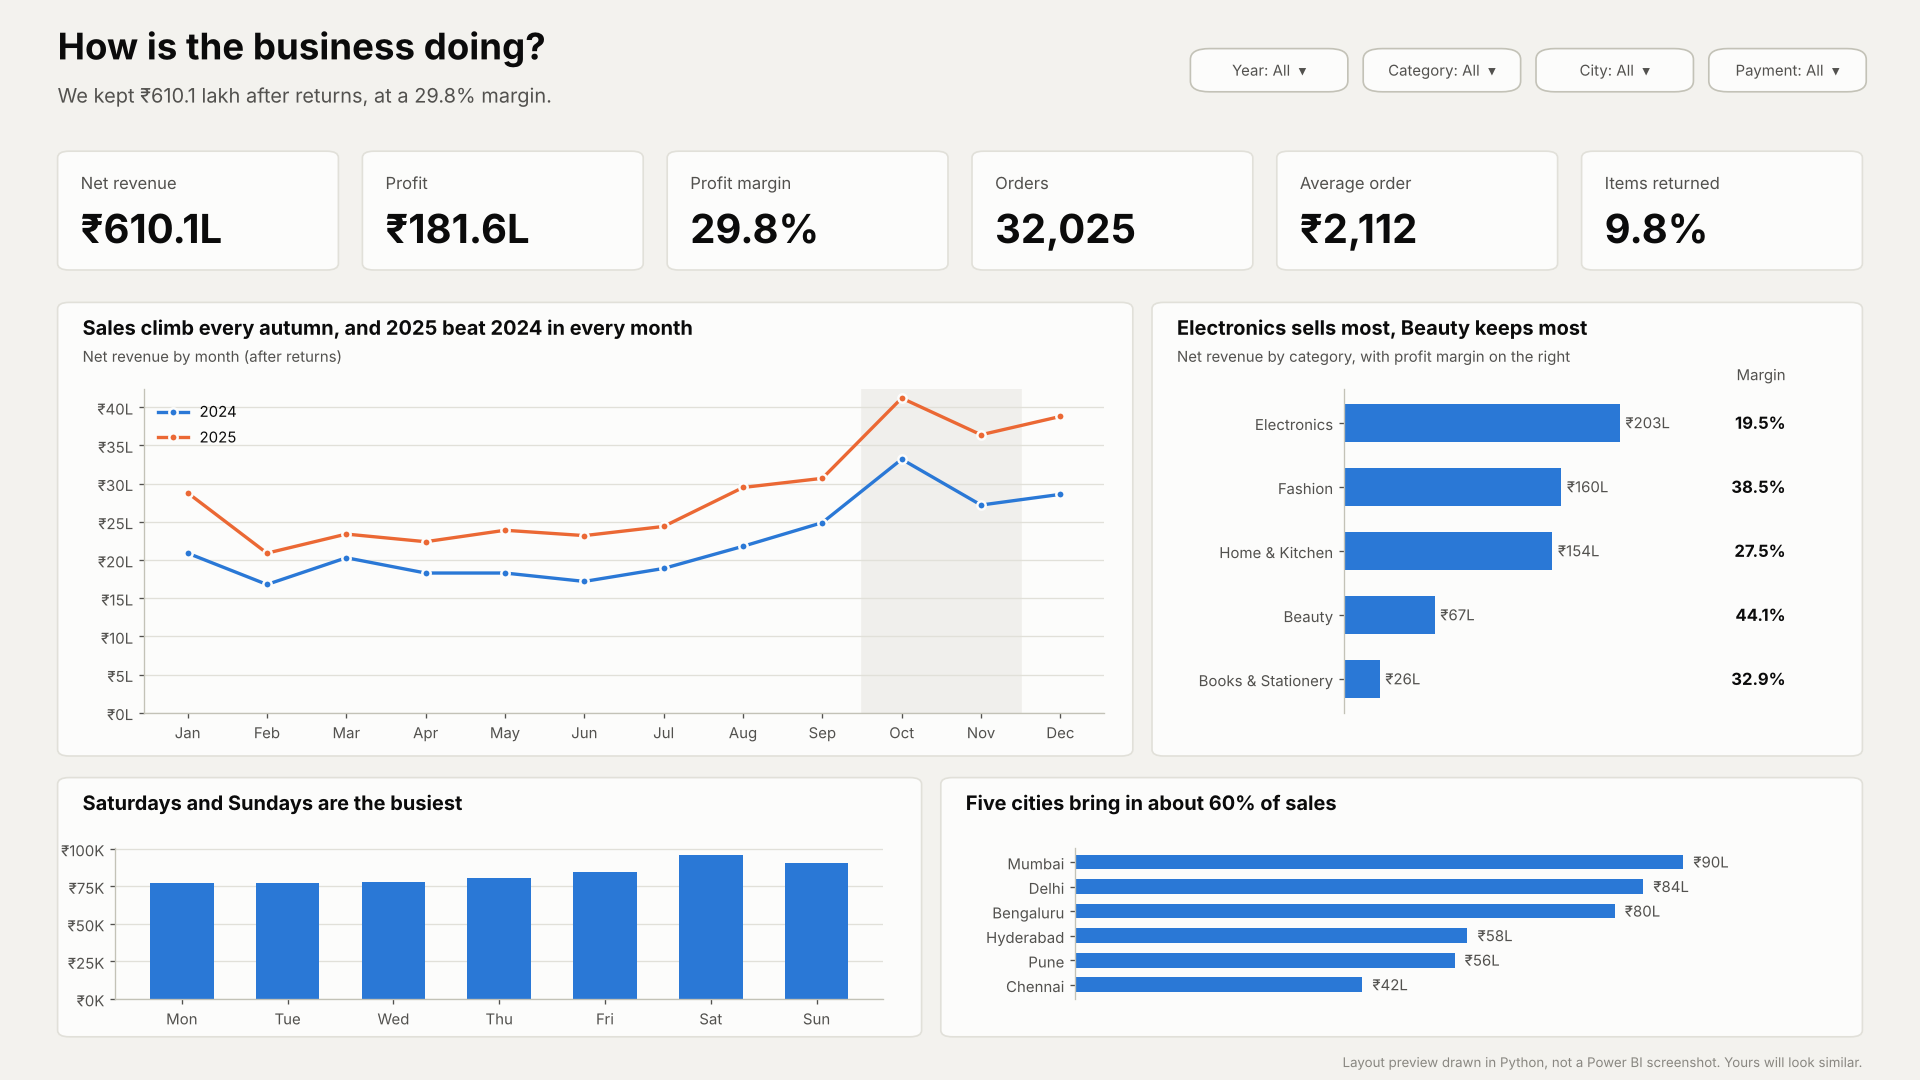

Layout of this report page (visuals, bound fields, positions):
{"tool":"powerbi","page":{"name":" How is the business doing?","canvas":[1920,1080],"ordinal":0},"visuals":[{"type":"cardVisual","title":"Net Revenue","fields":{"Data":["_Measures.Net Revenue"]},"box":[20.6,109.1,247,179],"z":0},{"type":"cardVisual","title":"Return Rate %","fields":{"Data":["_Measures.Return Rate %"]},"box":[317,109.1,247,179],"z":1000},{"type":"cardVisual","title":"Total Orders","fields":{"Data":["_Measures.Orders"]},"box":[605.1,109.1,247.9,179],"z":2000},{"type":"cardVisual","title":"Profit","fields":{"Data":["_Measures.Profit"]},"box":[883,109.1,247.9,179.2],"z":3000},{"type":"cardVisual","fields":{"Data":["_Measures.Headline Revenue Text"]},"box":[0,0,964.5,94.1],"z":4000},{"type":"slicer","title":"YEAR","fields":{"Values":["dim_date.year"]},"box":[1595.2,0,279.9,94.7],"z":5000},{"type":"slicer","title":"Category","fields":{"Values":["dim_products.category"]},"box":[1286.5,0,277.9,86.4],"z":6000},{"type":"slicer","fields":{"Values":["dim_customers.city"]},"box":[1006.5,0,279.9,86.4],"z":7000},{"type":"slicer","fields":{"Values":["fact_orders.payment_method"]},"box":[1484.1,117.3,280.5,81.4],"z":8000},{"type":"cardVisual","title":"Average Order Value","fields":{"Data":["_Measures.Average Order Value"]},"box":[1163,107,247,179.2],"z":9000},{"type":"lineChart","title":"Sales climb every autumn, and 2025 beat 2024 in every month","fields":{"Category":["dim_date.month_name"],"Series":["dim_date.year"],"Y":["_Measures.Net Revenue"]},"box":[852.1,302.6,1025,292.3],"z":10000},{"type":"clusteredBarChart","title":"Electronics sells most, Beauty keeps most","fields":{"Category":["dim_products.category"],"Y":["_Measures.Net Revenue"]},"box":[0,302.6,767.8,292.3],"z":11000},{"type":"clusteredColumnChart","title":"Saturdays and Sundays are the busiest","fields":{"Category":["dim_date.weekday_name"],"Y":["_Measures.Avg Daily Net Revenue"]},"box":[0,619.6,767.8,442.5],"z":12000},{"type":"clusteredBarChart","title":"Five cities bring in about 60% of sales","fields":{"Category":["dim_customers.city"],"Y":["_Measures.Net Revenue"]},"box":[852.1,619.6,1023,442.5],"z":13000}]}

Visuals, with their boxes in screenshot pixels (x1, y1, x2, y2), scaled from the page's 1920x1080 canvas onto the 1920x1080 screenshot:
"Net Revenue" cardVisual: Rect(21, 109, 268, 288)
"Return Rate %" cardVisual: Rect(317, 109, 564, 288)
"Total Orders" cardVisual: Rect(605, 109, 853, 288)
"Profit" cardVisual: Rect(883, 109, 1131, 288)
cardVisual - _Measures.Headline Revenue Text: Rect(0, 0, 964, 94)
"YEAR" slicer: Rect(1595, 0, 1875, 95)
"Category" slicer: Rect(1286, 0, 1564, 86)
slicer - dim_customers.city: Rect(1006, 0, 1286, 86)
slicer - fact_orders.payment_method: Rect(1484, 117, 1765, 199)
"Average Order Value" cardVisual: Rect(1163, 107, 1410, 286)
"Sales climb every autumn, and 2025 beat 2024 in every month" lineChart: Rect(852, 303, 1877, 595)
"Electronics sells most, Beauty keeps most" clusteredBarChart: Rect(0, 303, 768, 595)
"Saturdays and Sundays are the busiest" clusteredColumnChart: Rect(0, 620, 768, 1062)
"Five cities bring in about 60% of sales" clusteredBarChart: Rect(852, 620, 1875, 1062)
